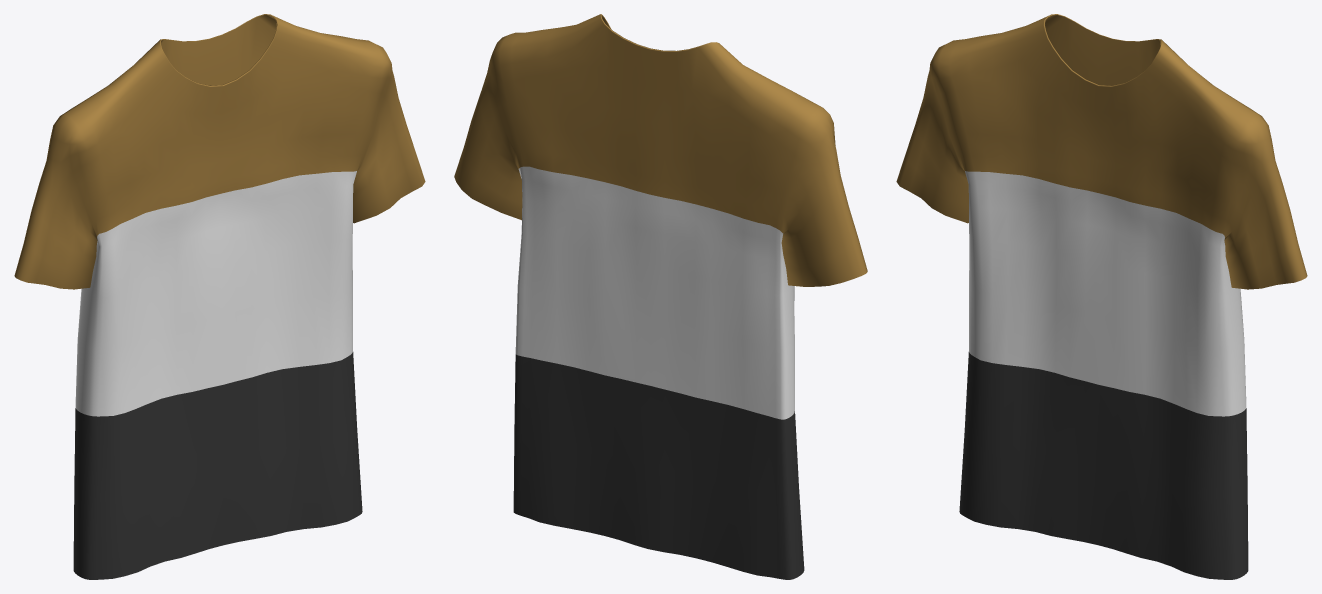
Rendered from showroom_t_shirt.fbx.
3 views of the same model, side by side, from view 1: azimuth 30°, elevation 25°; view 2: azimuth 150°, elevation 25°; view 3: azimuth 330°, elevation 25° (orthographic).
Visible parts, largest first — view 1: showroom_t_shirt; view 2: showroom_t_shirt; view 3: showroom_t_shirt.
Boxes of the visible parts, x1,y1,x2,y2 form: showroom_t_shirt: [14, 14, 425, 579]; showroom_t_shirt: [454, 14, 867, 579]; showroom_t_shirt: [896, 14, 1307, 579].
Size of the model in its own units: 55.9 by 66.85 by 6.53.
